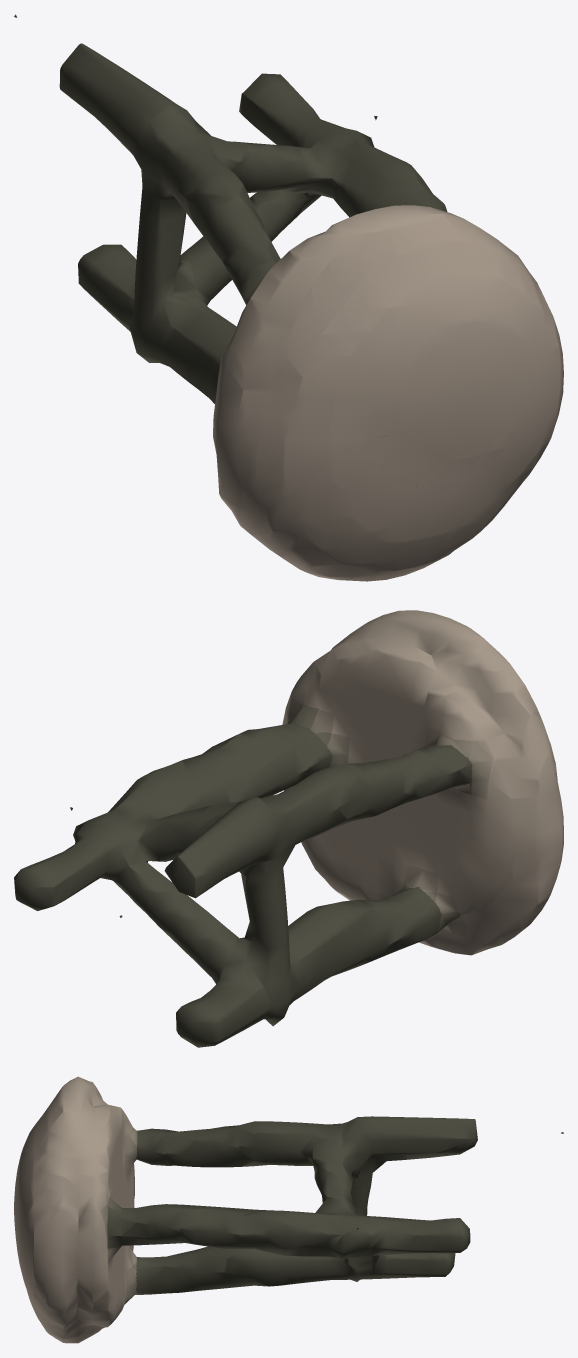
The model's file is stool.gltf.
3 renders of one model, top to bottom at view 1: azimuth 30°, elevation 25°; view 2: azimuth 150°, elevation 25°; view 3: azimuth 270°, elevation 25°, orthographic. The views are drawn at different scales.
Parts seen in each view (by area): view 1: stool; view 2: stool; view 3: stool.
Part boxes in pixels (x1,y1,x2,y2): stool: (14,14,563,581); stool: (14,610,563,1047); stool: (14,1076,563,1343).
Bounding box in the file's own units: 14.2 × 14 × 28.08.
Materials: 1 (1 with a texture image).
